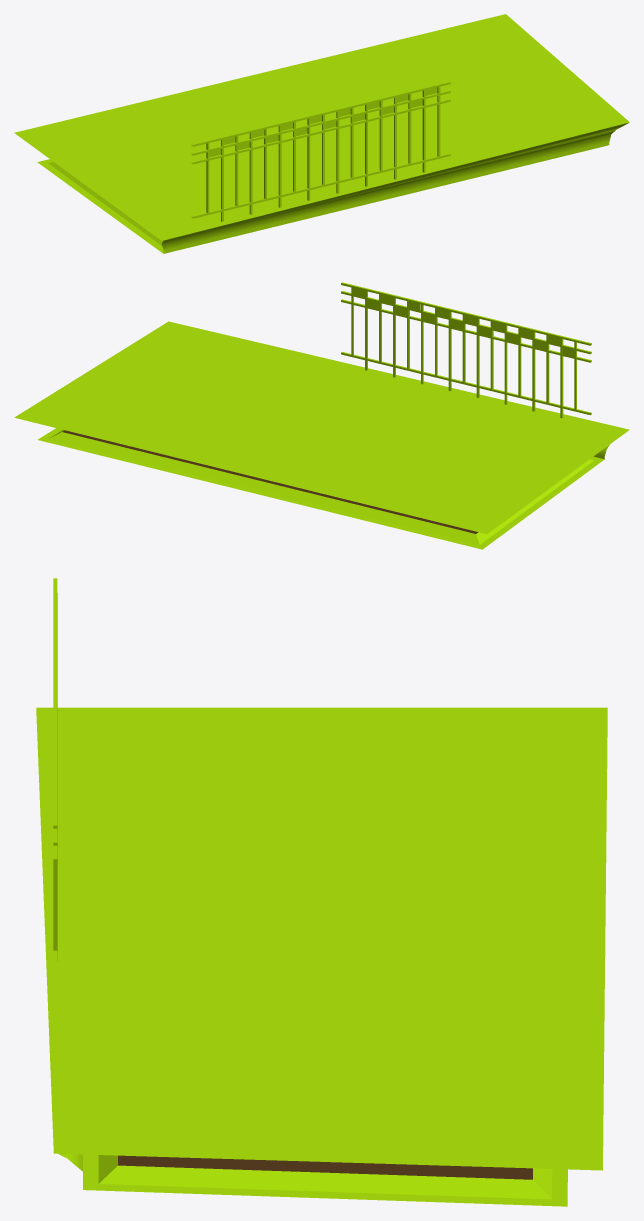
Rendered from BAck Side Balcony.FBX.
The picture shows the model from 3 angles, top to bottom: view 1: azimuth 30°, elevation 25°; view 2: azimuth 150°, elevation 25°; view 3: azimuth 270°, elevation 25°; orthographic projection. The views are drawn at different scales.
Visible parts, largest first — view 1: Box3363; view 2: Box3363; view 3: Box3363.
Part boxes in pixels (x1,y1,x2,y2): Box3363: (14, 14, 629, 253); Box3363: (14, 282, 629, 549); Box3363: (36, 578, 607, 1206).
Size of the model in its own units: 10.71 by 2.3 by 5.59.
